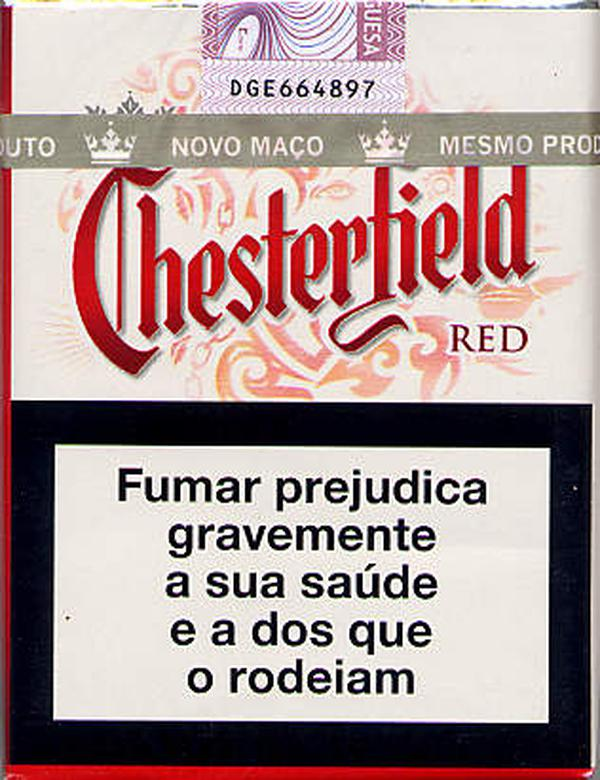chesterfield_red: (9, 8, 590, 764)
